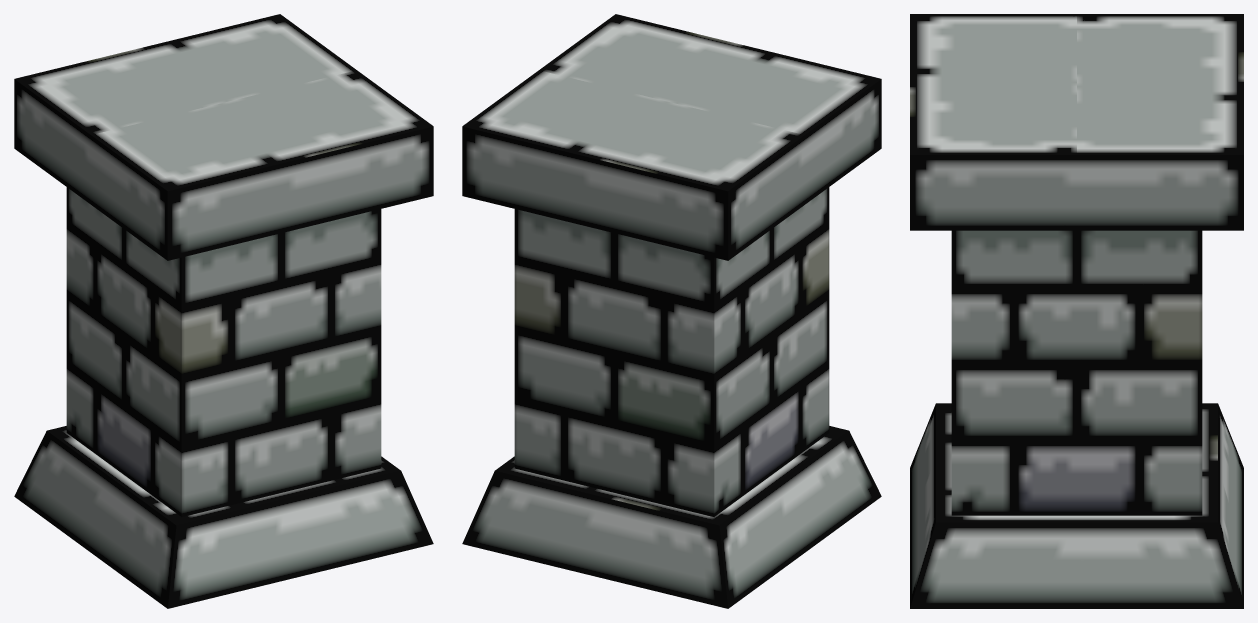
Rendered from deco_cathedral_wallEnd.FBX.
The picture shows the model from 3 angles, left to right: view 1: azimuth 30°, elevation 25°; view 2: azimuth 150°, elevation 25°; view 3: azimuth 270°, elevation 25°; orthographic projection. The views are drawn at different scales.
Parts seen in each view (by area): view 1: deco_cathedral_wallEnd; view 2: deco_cathedral_wallEnd; view 3: deco_cathedral_wallEnd.
Boxes of the visible parts, <box> form: deco_cathedral_wallEnd: <box>14,14,433,608</box>; deco_cathedral_wallEnd: <box>462,14,881,608</box>; deco_cathedral_wallEnd: <box>910,14,1243,608</box>.
Size of the model in its own units: 1 by 1.5 by 1.
Materials: 1 (1 with a texture image).
